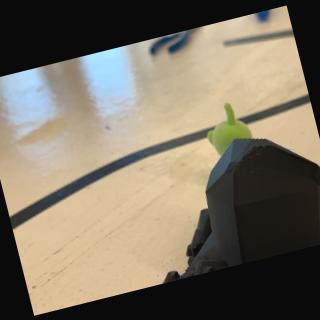teletubby: (207, 102, 252, 155)
